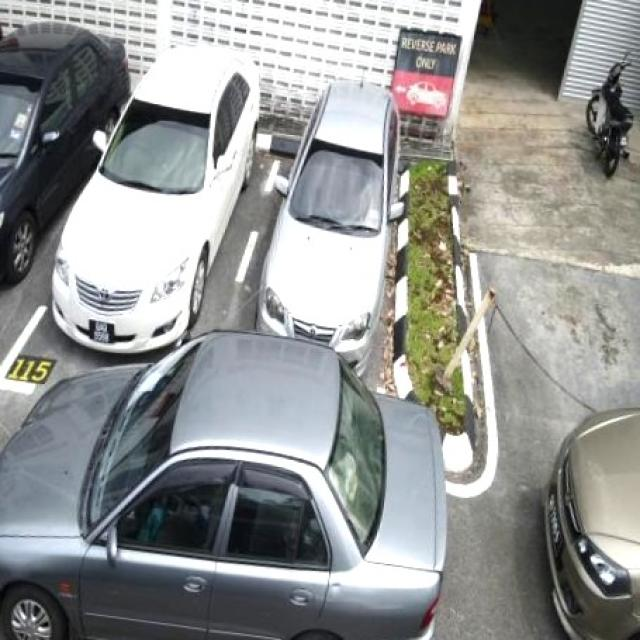Legalparking: (0, 23, 259, 353), (259, 82, 402, 369)
illegalparking: (0, 332, 444, 639), (546, 409, 639, 639)
